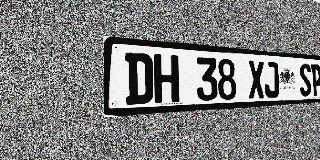3: (196, 57, 218, 101)
8: (217, 58, 237, 100)
D: (125, 52, 153, 105)
H: (154, 54, 179, 103)
J: (264, 61, 279, 98)
P: (311, 64, 320, 96)
S: (299, 63, 312, 96)
X: (248, 60, 265, 99)
